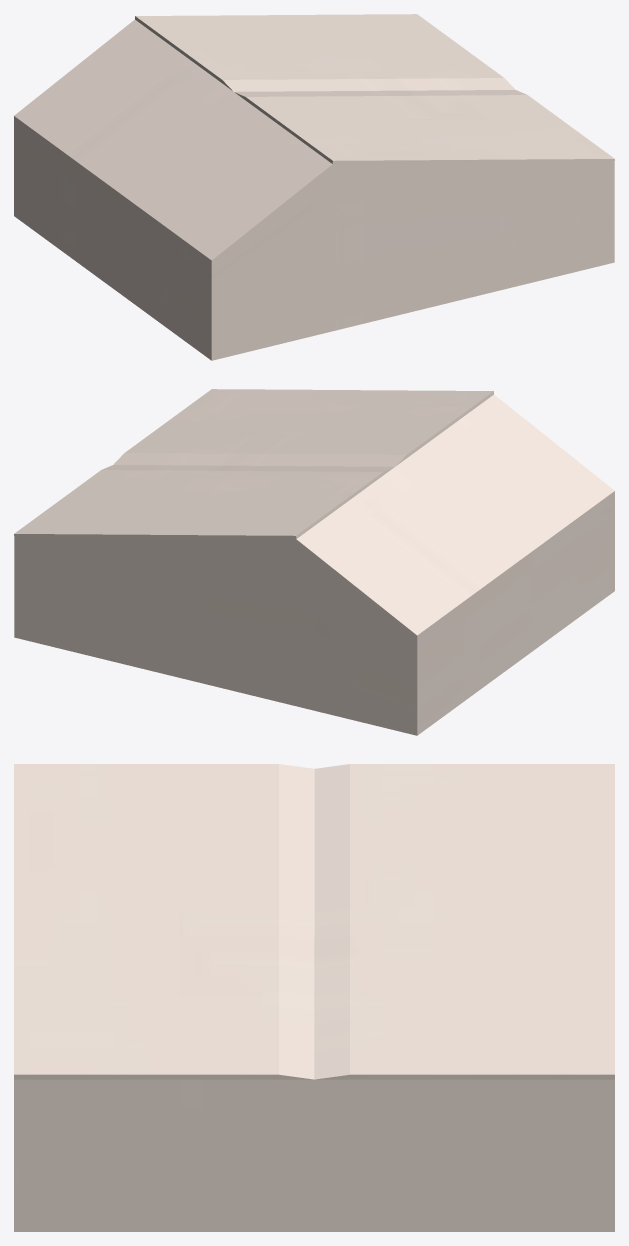
File: Mouse.obj
3 renders of one model, top to bottom at view 1: azimuth 30°, elevation 25°; view 2: azimuth 150°, elevation 25°; view 3: azimuth 270°, elevation 25°, orthographic. The views are drawn at different scales.
Parts seen in each view (by area): view 1: Mouse; view 2: Mouse; view 3: Mouse.
Part boxes in pixels (box(x1,y1,x2,y2)): Mouse: box(14, 14, 614, 360); Mouse: box(14, 389, 614, 735); Mouse: box(14, 764, 614, 1231).
Size of the model in its own units: 0.4095 by 0.1654 by 0.3478.
